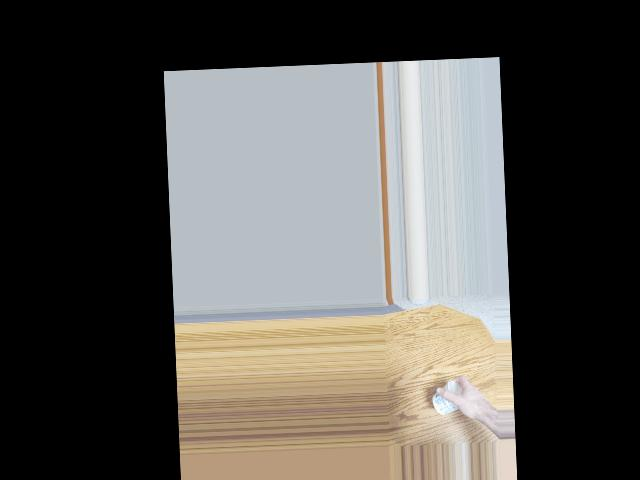cotage: (433, 380, 468, 420)
